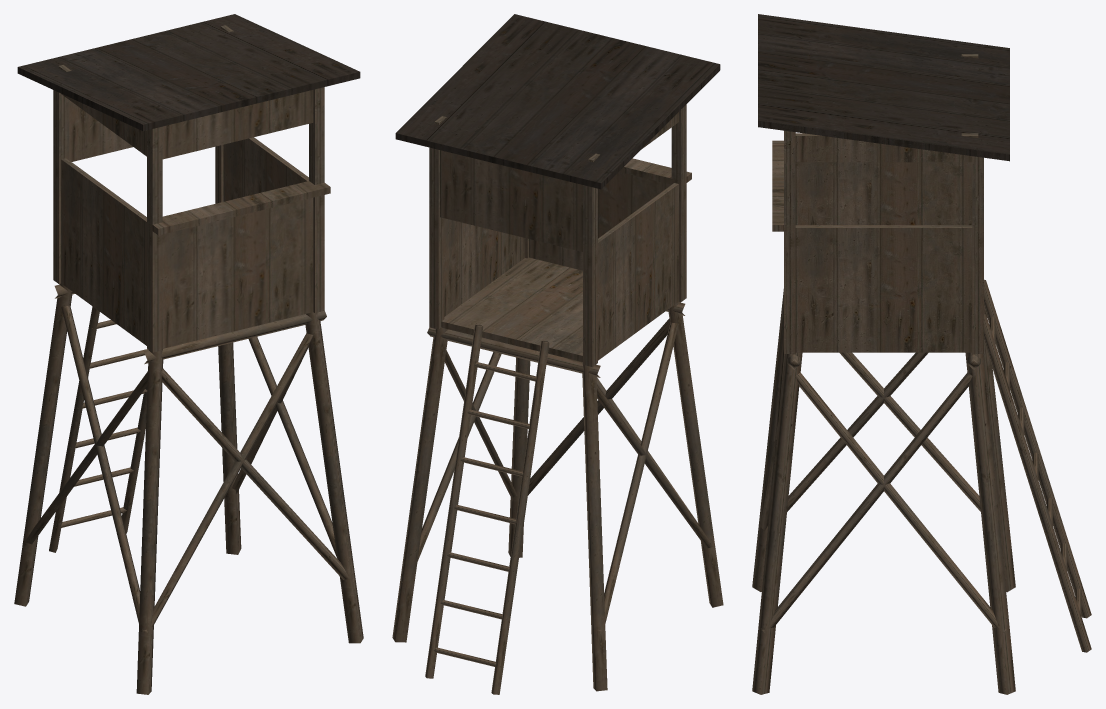
The model's file is hochsitz.glb.
3 views of the same model, side by side, from view 1: azimuth 30°, elevation 25°; view 2: azimuth 150°, elevation 25°; view 3: azimuth 270°, elevation 25° (orthographic). The views are drawn at different scales.
Visible parts, largest first — view 1: Hochsitz_Timber, Hochsitz_Roof; view 2: Hochsitz_Timber, Hochsitz_Roof; view 3: Hochsitz_Timber, Hochsitz_Roof.
Boxes of the visible parts, <box> form: Hochsitz_Timber: <box>14,25,363,694</box>; Hochsitz_Roof: <box>17,14,360,131</box>; Hochsitz_Timber: <box>392,104,723,694</box>; Hochsitz_Roof: <box>395,14,720,189</box>; Hochsitz_Timber: <box>752,54,1091,694</box>; Hochsitz_Roof: <box>758,14,1009,161</box>.
Bounding box in the file's own units: 1.82 × 4.37 × 2.34.
Materials: 2 (2 with a texture image).
